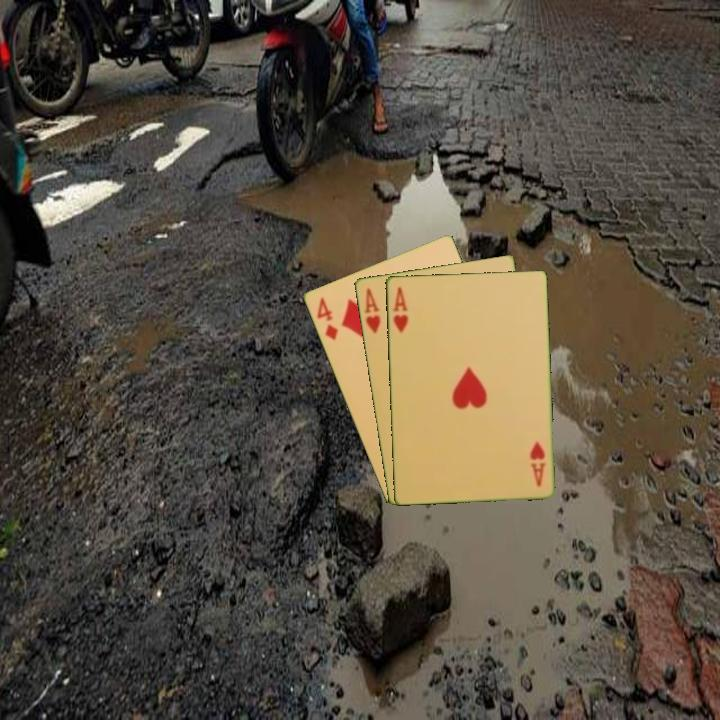4d: (313, 294, 340, 343)
Ah: (361, 284, 383, 336), (389, 283, 411, 335), (527, 437, 548, 489)
